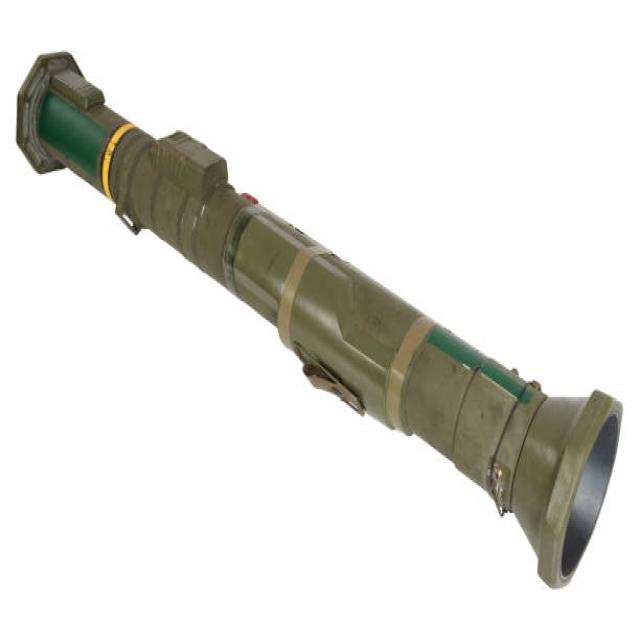bazooka: (8, 34, 631, 606)
